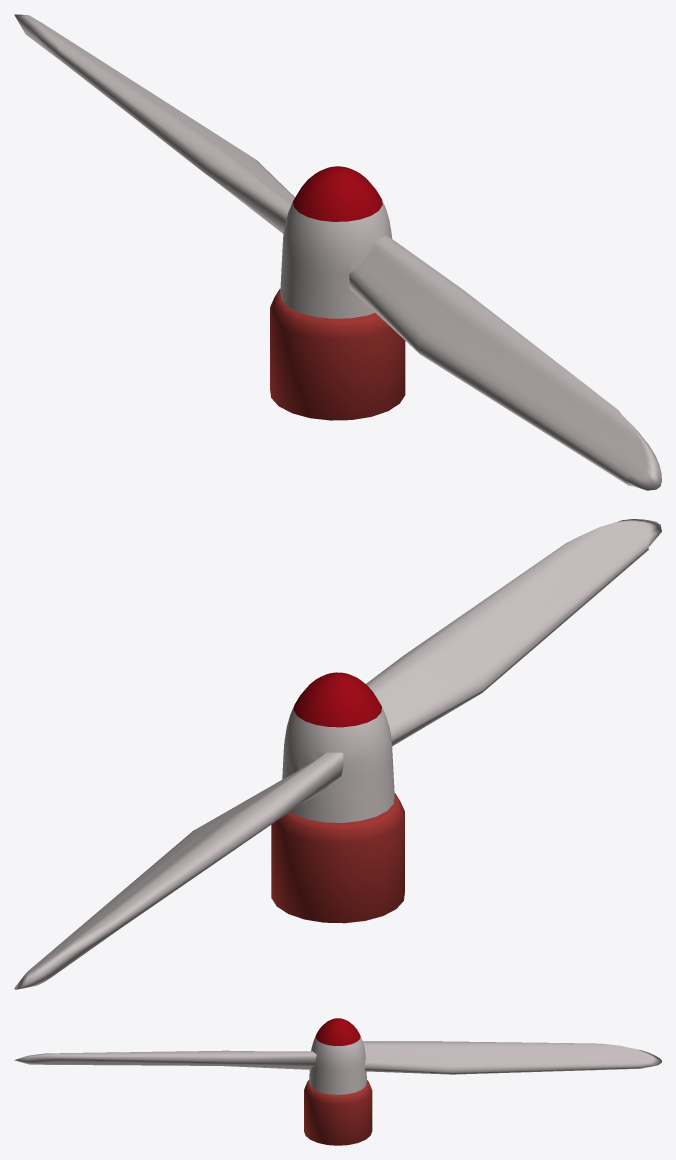
The model's file is propellor_02_red.a05edc7f.glb.
The picture shows the model from 3 angles, top to bottom: view 1: azimuth 30°, elevation 25°; view 2: azimuth 150°, elevation 25°; view 3: azimuth 270°, elevation 25°; orthographic projection. The views are drawn at different scales.
Visible parts, largest first — view 1: Rotor1_shd_white_0; view 2: Rotor1_shd_white_0; view 3: Rotor1_shd_white_0.
Part boxes in pixels (x1=…): Rotor1_shd_white_0: x1=14, y1=14, x2=661, y2=490; Rotor1_shd_white_0: x1=14, y1=519, x2=661, y2=989; Rotor1_shd_white_0: x1=14, y1=1018, x2=661, y2=1145.
Size of the model in its own units: 1.05 by 1.89 by 9.93.
